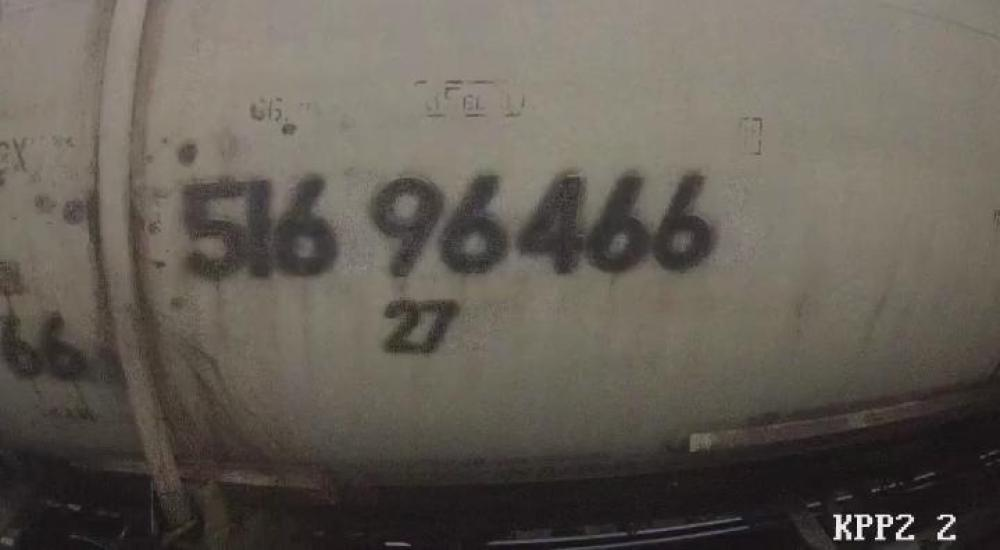Wagon-number: (176, 167, 722, 288)
